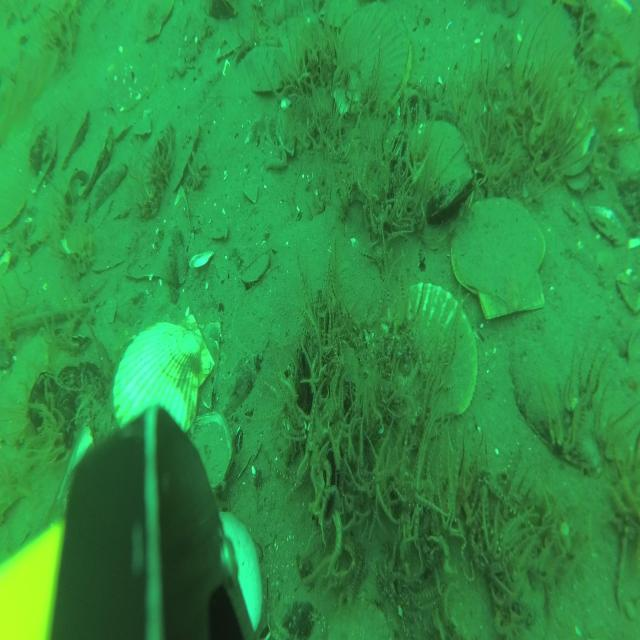scallop: (377, 283, 478, 418), (110, 308, 213, 439), (448, 191, 548, 322), (334, 0, 415, 113), (402, 123, 477, 230), (512, 1, 581, 96), (144, 2, 175, 42)
